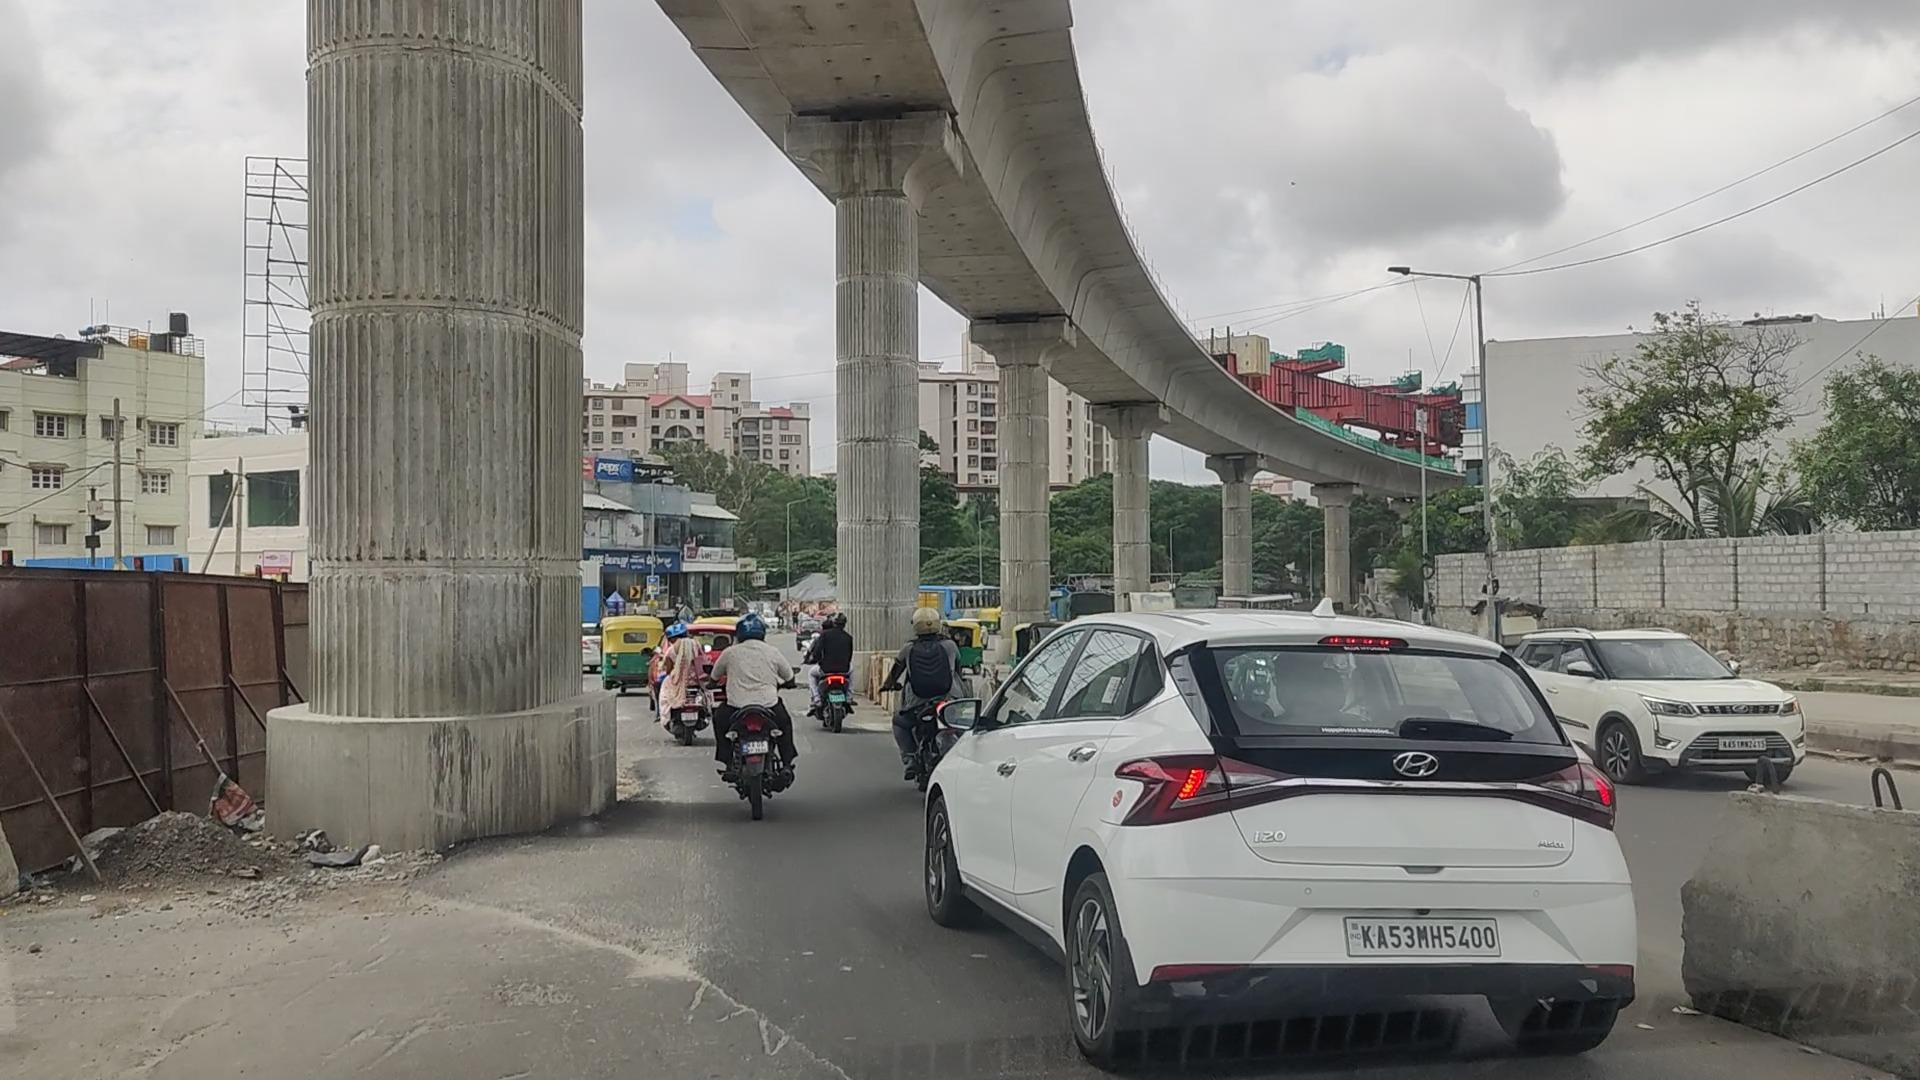LMV: (936, 603, 1623, 1039), (723, 626, 793, 799)
RoadDamages: (506, 862, 856, 1080), (115, 878, 414, 1080)
